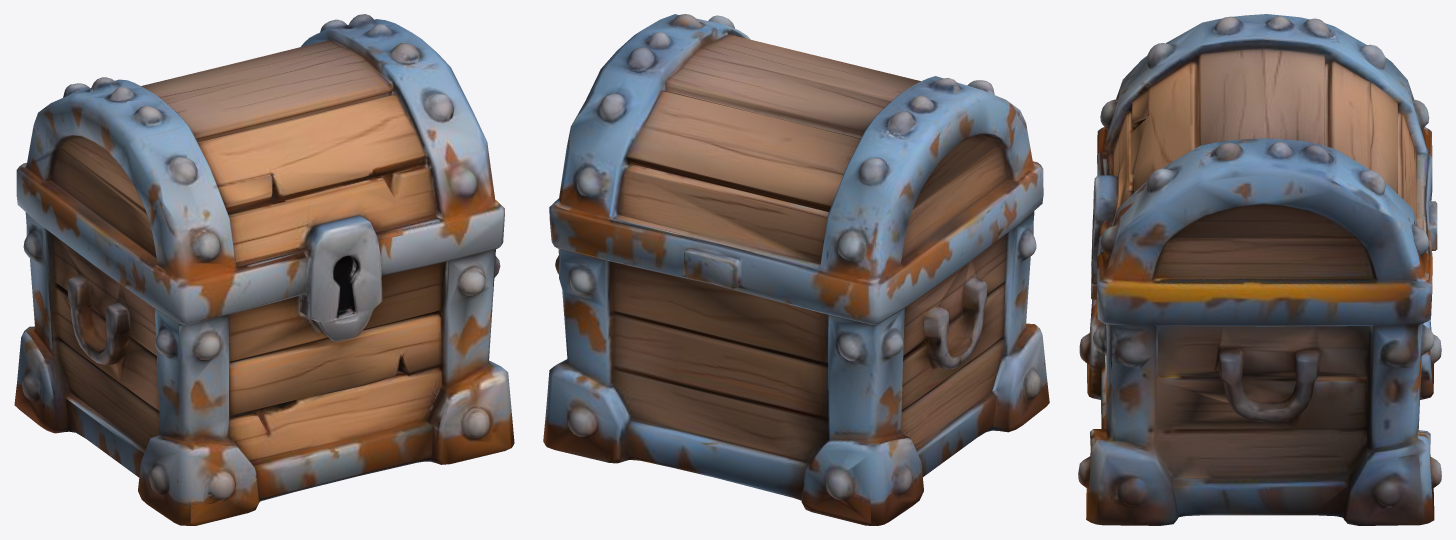
The model's file is chest_1.glb.
3 renders of one model, left to right at view 1: azimuth 30°, elevation 25°; view 2: azimuth 150°, elevation 25°; view 3: azimuth 270°, elevation 25°, orthographic.
Visible parts, largest first — view 1: chest_1; view 2: chest_1; view 3: chest_1.
Part boxes in pixels (x1,y1,x2,y2): chest_1: (14,14,514,525); chest_1: (543,14,1049,525); chest_1: (1078,14,1441,525).
Bounding box in the file's own units: 0.415 × 0.4091 × 0.3723.
1 material, 1 textured.
